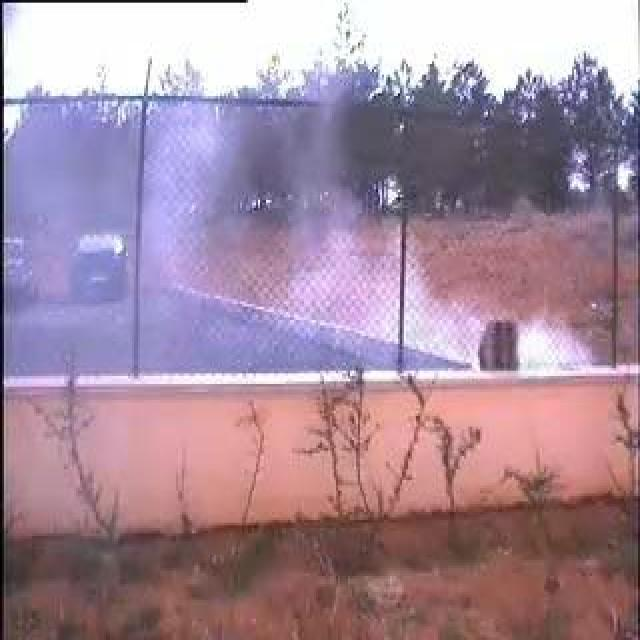Smoke: (344, 249, 576, 375), (137, 99, 241, 336)
